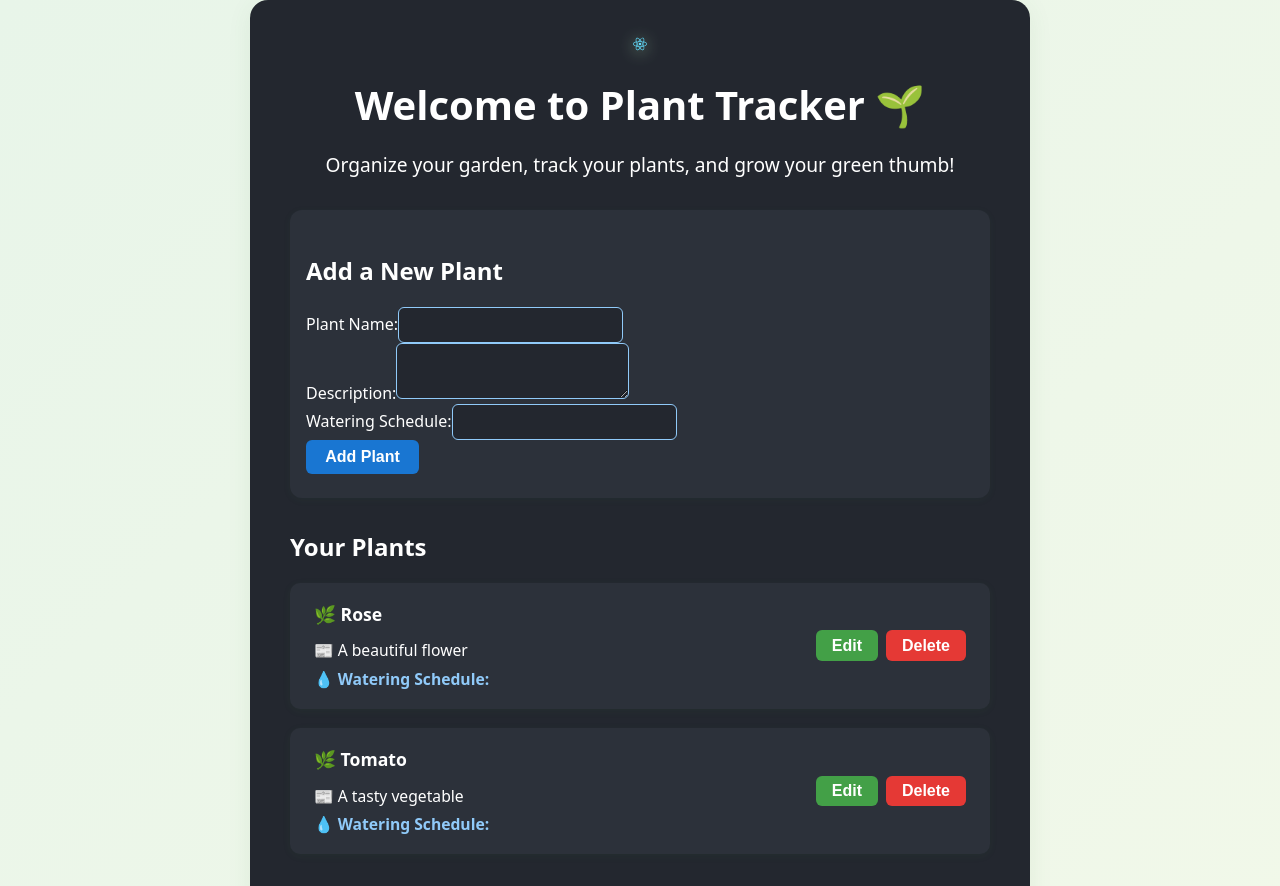
Test: App Component Tests › shows error when adding duplicate plant name
The width and height of the screenshot is (1280, 886).
Expected: the text "Rose" is shown, [340, 602, 382, 626]
Type "Rose" into the field labelled "Plant Name:" at (510, 325), box [398, 307, 623, 343]
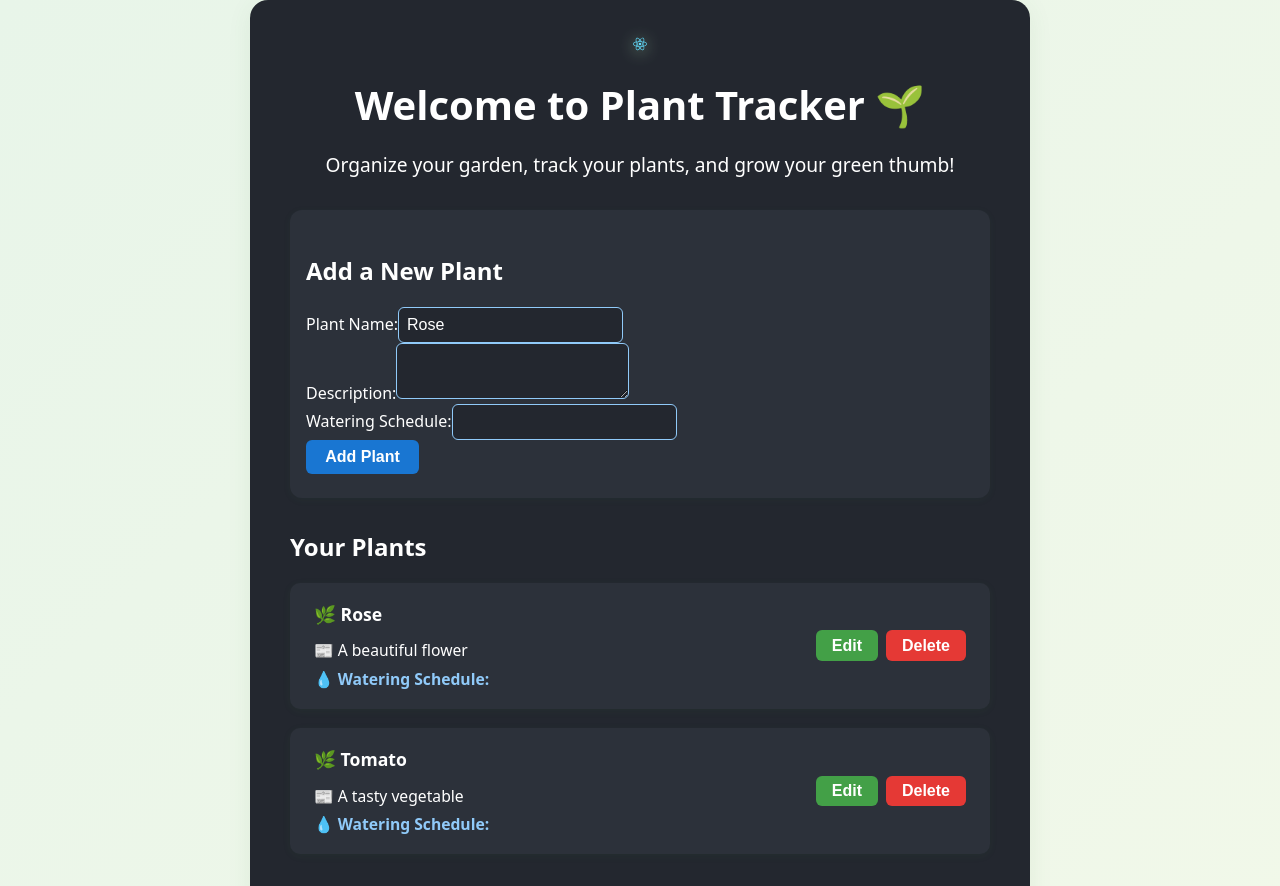
Type "Duplicate" into the text box labelled "Description:" at (513, 371), box [396, 343, 629, 399]
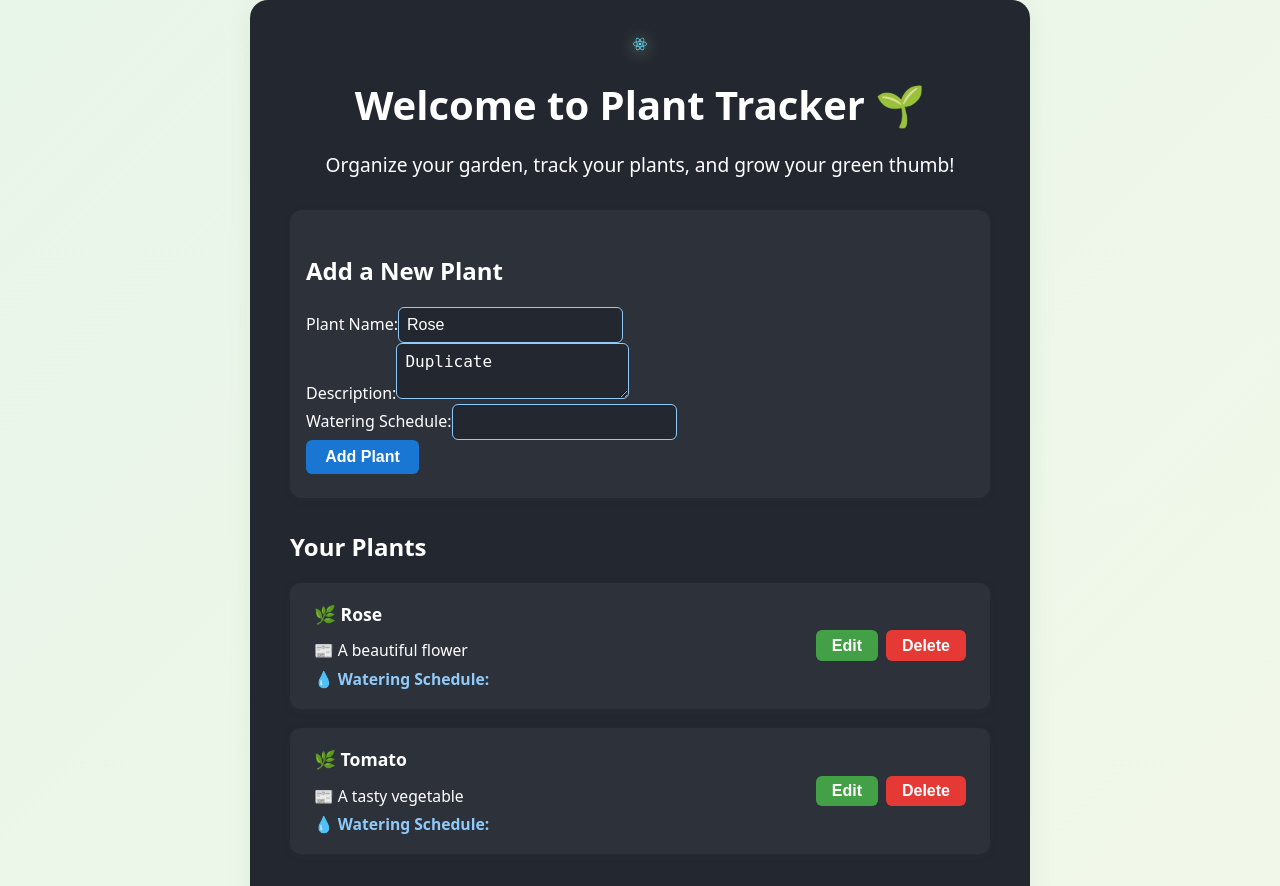
Type "Every day" into the field labelled "Watering Schedule:" at (564, 422), box [452, 404, 676, 440]
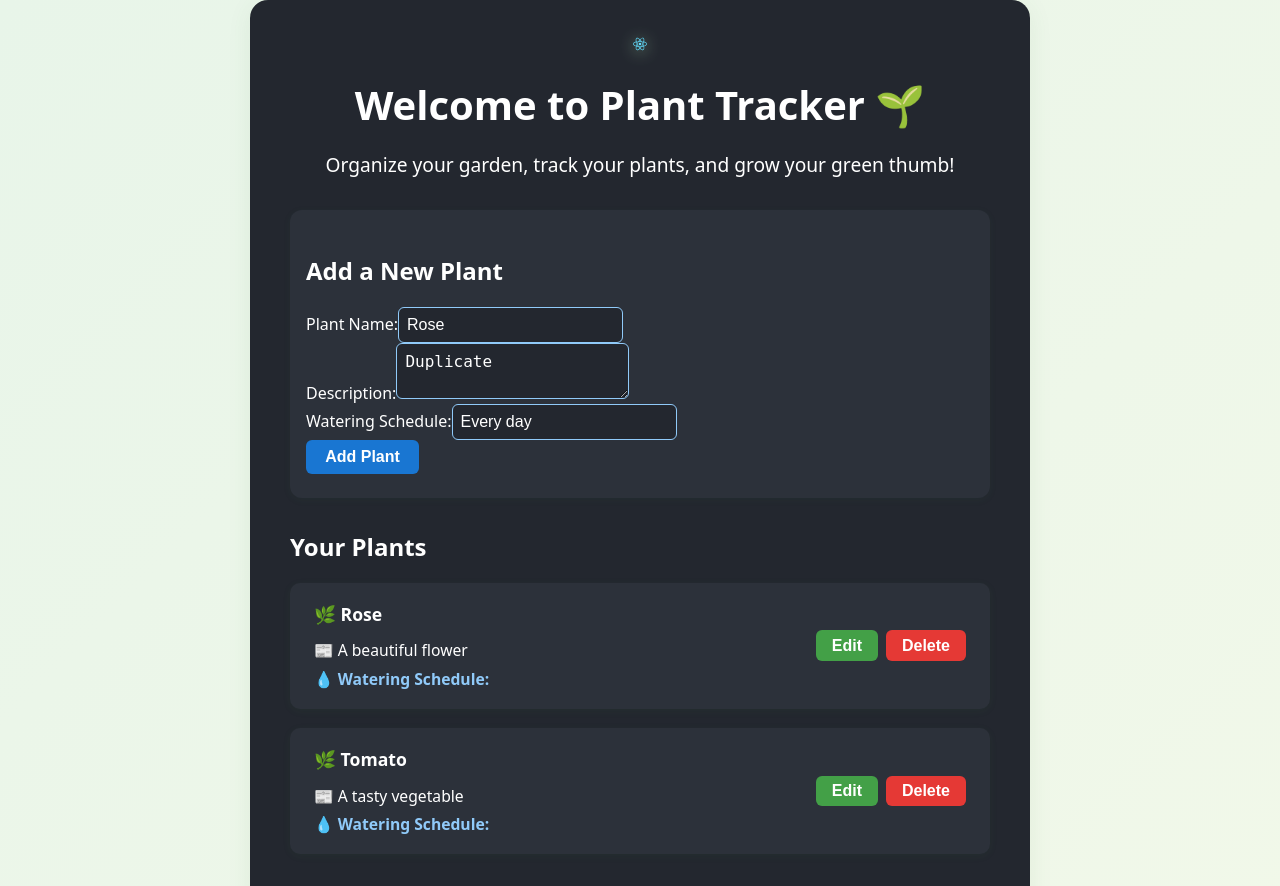
Click the button "Add Plant" at (362, 457), box [306, 440, 419, 474]
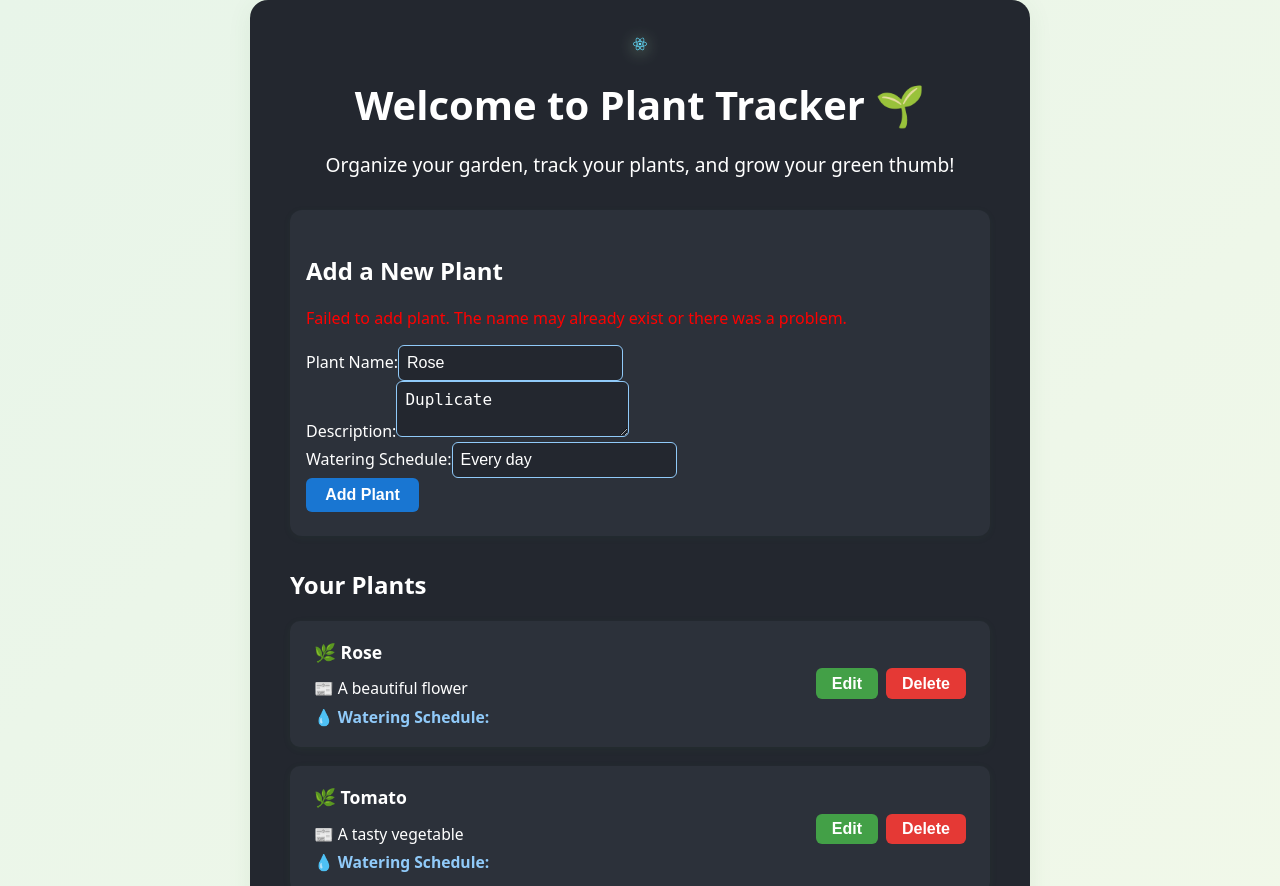
Now the text "Failed to add plant. The name may already exist or there was a problem." is shown, box [306, 307, 847, 329]
